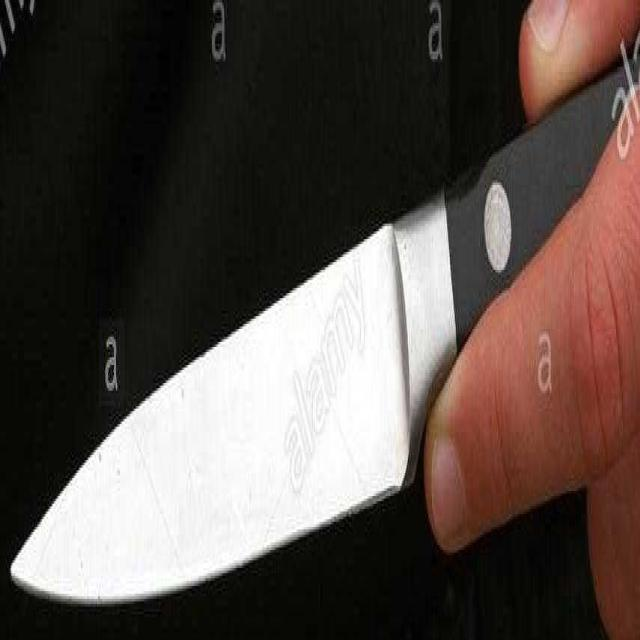Knife: (10, 0, 640, 607)
